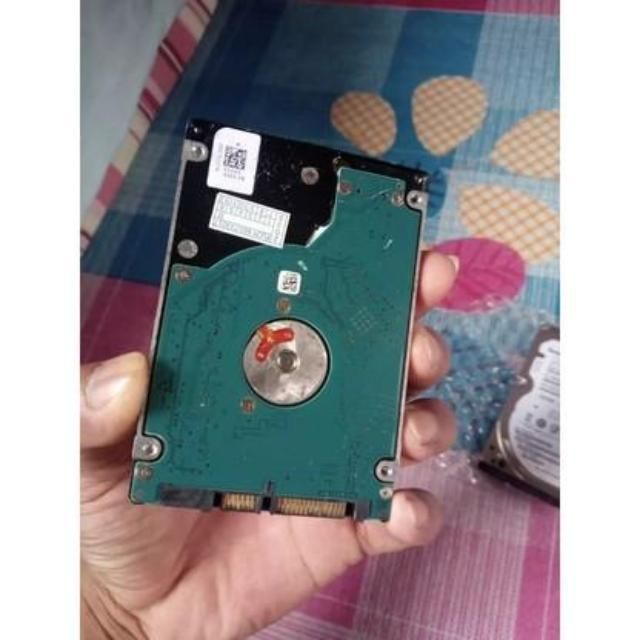DISK: (131, 112, 429, 530)
